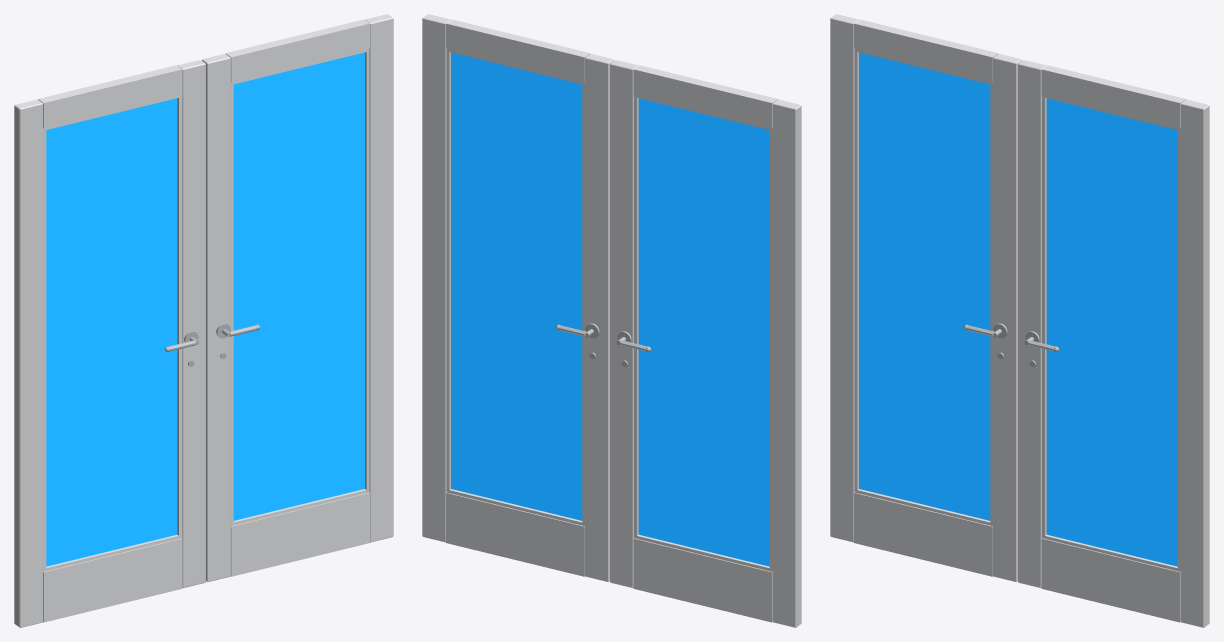
Rendered from porta_dupla_vidro_inteiro_branca.glb.
3 views of the same model, side by side, from view 1: azimuth 30°, elevation 25°; view 2: azimuth 150°, elevation 25°; view 3: azimuth 330°, elevation 25° (orthographic).
Visible parts, largest first — view 1: porta_dupla_vidro_inteiro_branca; view 2: porta_dupla_vidro_inteiro_branca; view 3: porta_dupla_vidro_inteiro_branca.
Boxes of the visible parts, x1,y1,x2,y2 form: porta_dupla_vidro_inteiro_branca: [14, 14, 393, 627]; porta_dupla_vidro_inteiro_branca: [422, 14, 801, 627]; porta_dupla_vidro_inteiro_branca: [830, 14, 1209, 627].
Size of the model in its own units: 1.56 by 2.07 by 0.143.
